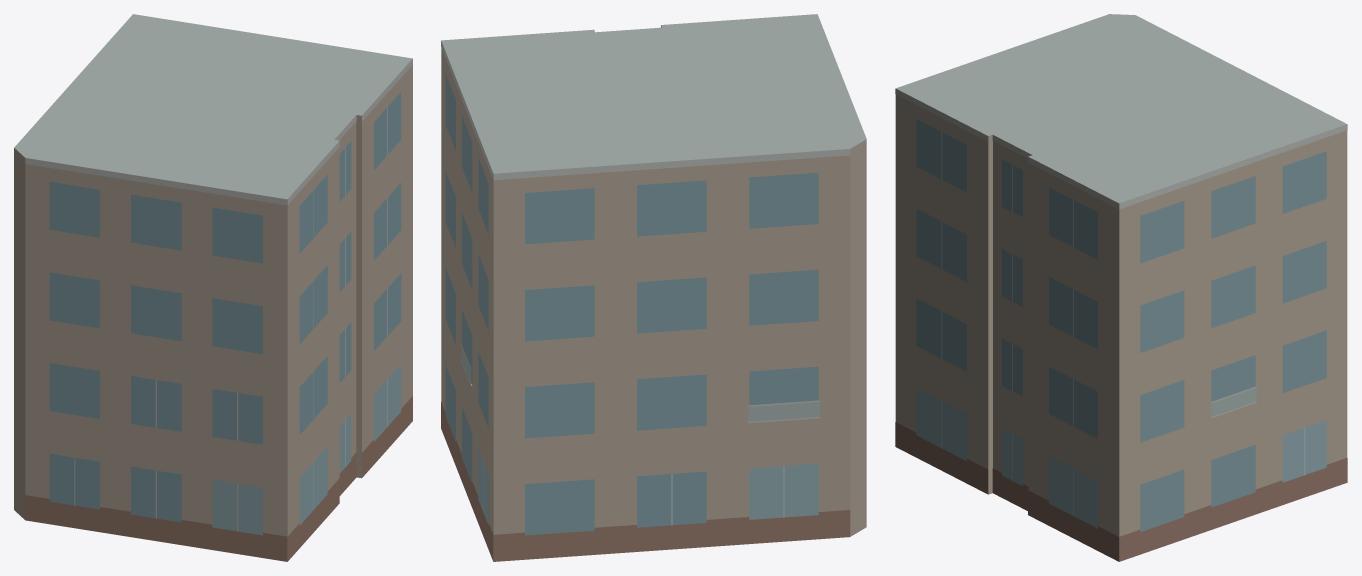
Rendered from survey-upis-32581437.glb.
3 renders of one model, left to right at view 1: azimuth 30°, elevation 25°; view 2: azimuth 150°, elevation 25°; view 3: azimuth 270°, elevation 25°, orthographic. The views are drawn at different scales.
Visible parts, largest first — view 1: survey-upis-32581437.tmp; view 2: survey-upis-32581437.tmp; view 3: survey-upis-32581437.tmp.
Part boxes in pixels (box(x1,y1,x2,y2)): survey-upis-32581437.tmp: box(14, 14, 412, 561); survey-upis-32581437.tmp: box(441, 14, 866, 561); survey-upis-32581437.tmp: box(895, 14, 1347, 561).
Size of the model in its own units: 16.54 by 14.59 by 16.68.
